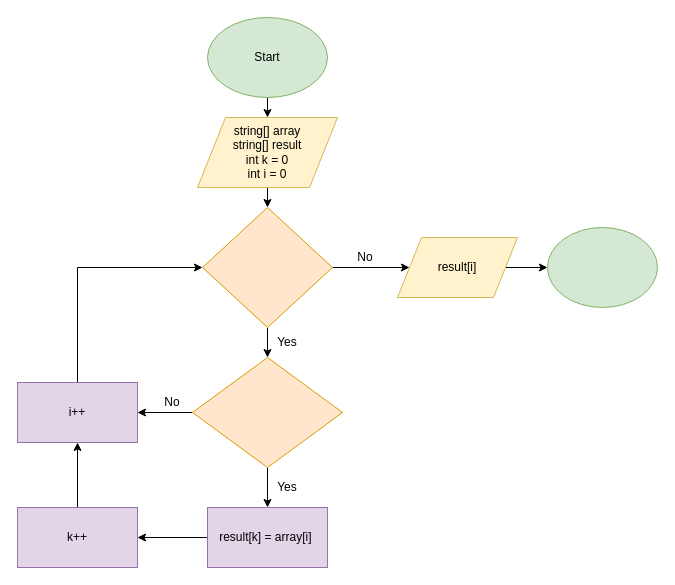
Some shapes in this 675 by 585 pixel diagram are drawn without their labels. Each missing label, with the centre of its shape:
"array[i].Lenght <= 3 ?" goes at point 267,412.
"End" goes at point 602,267.
"i < array.Lenght ?" goes at point 267,267.
